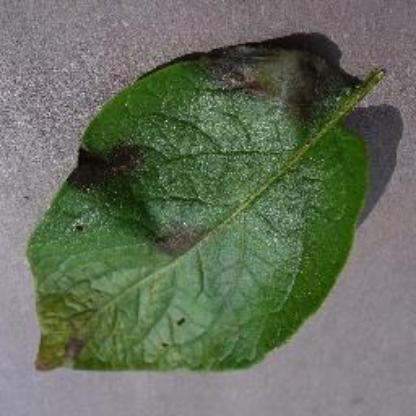Late-Blight: (25, 30, 392, 378)
